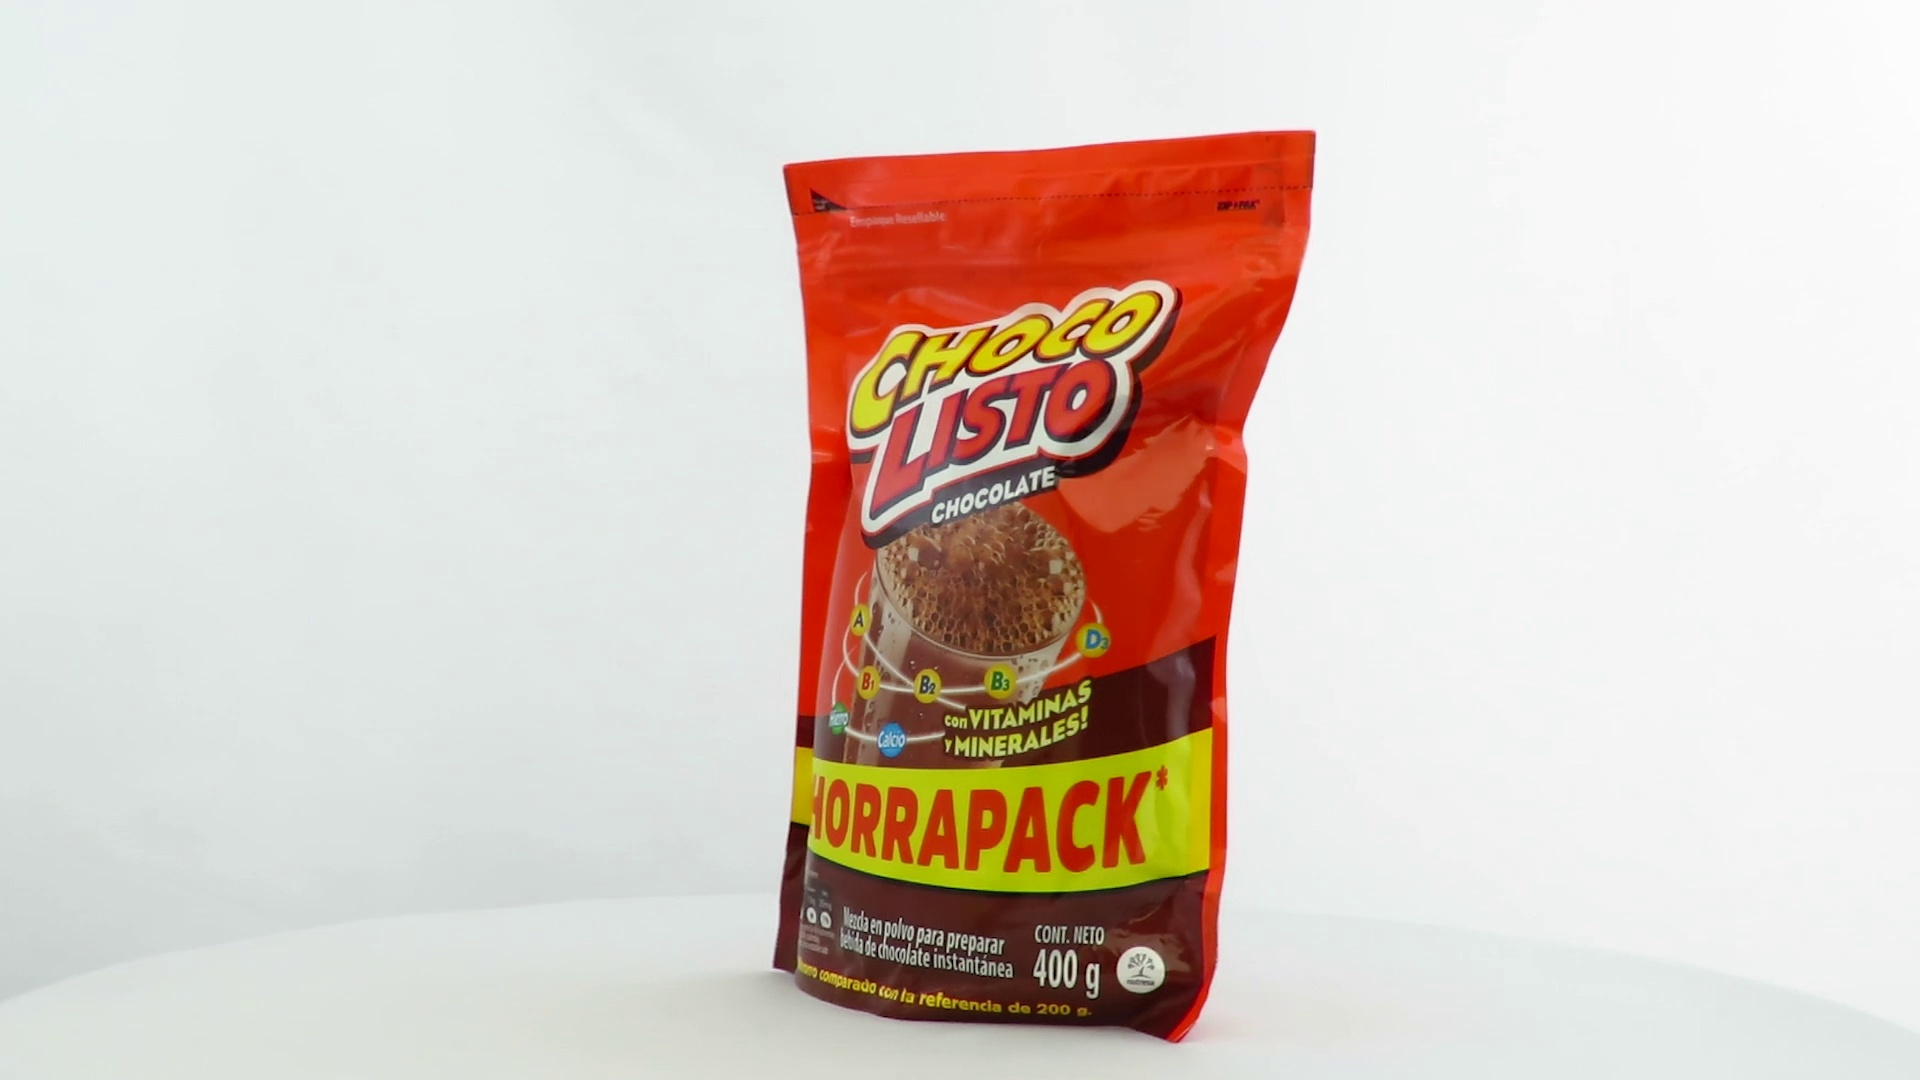COL0170103DYP40000: (767, 125, 1323, 1050)
